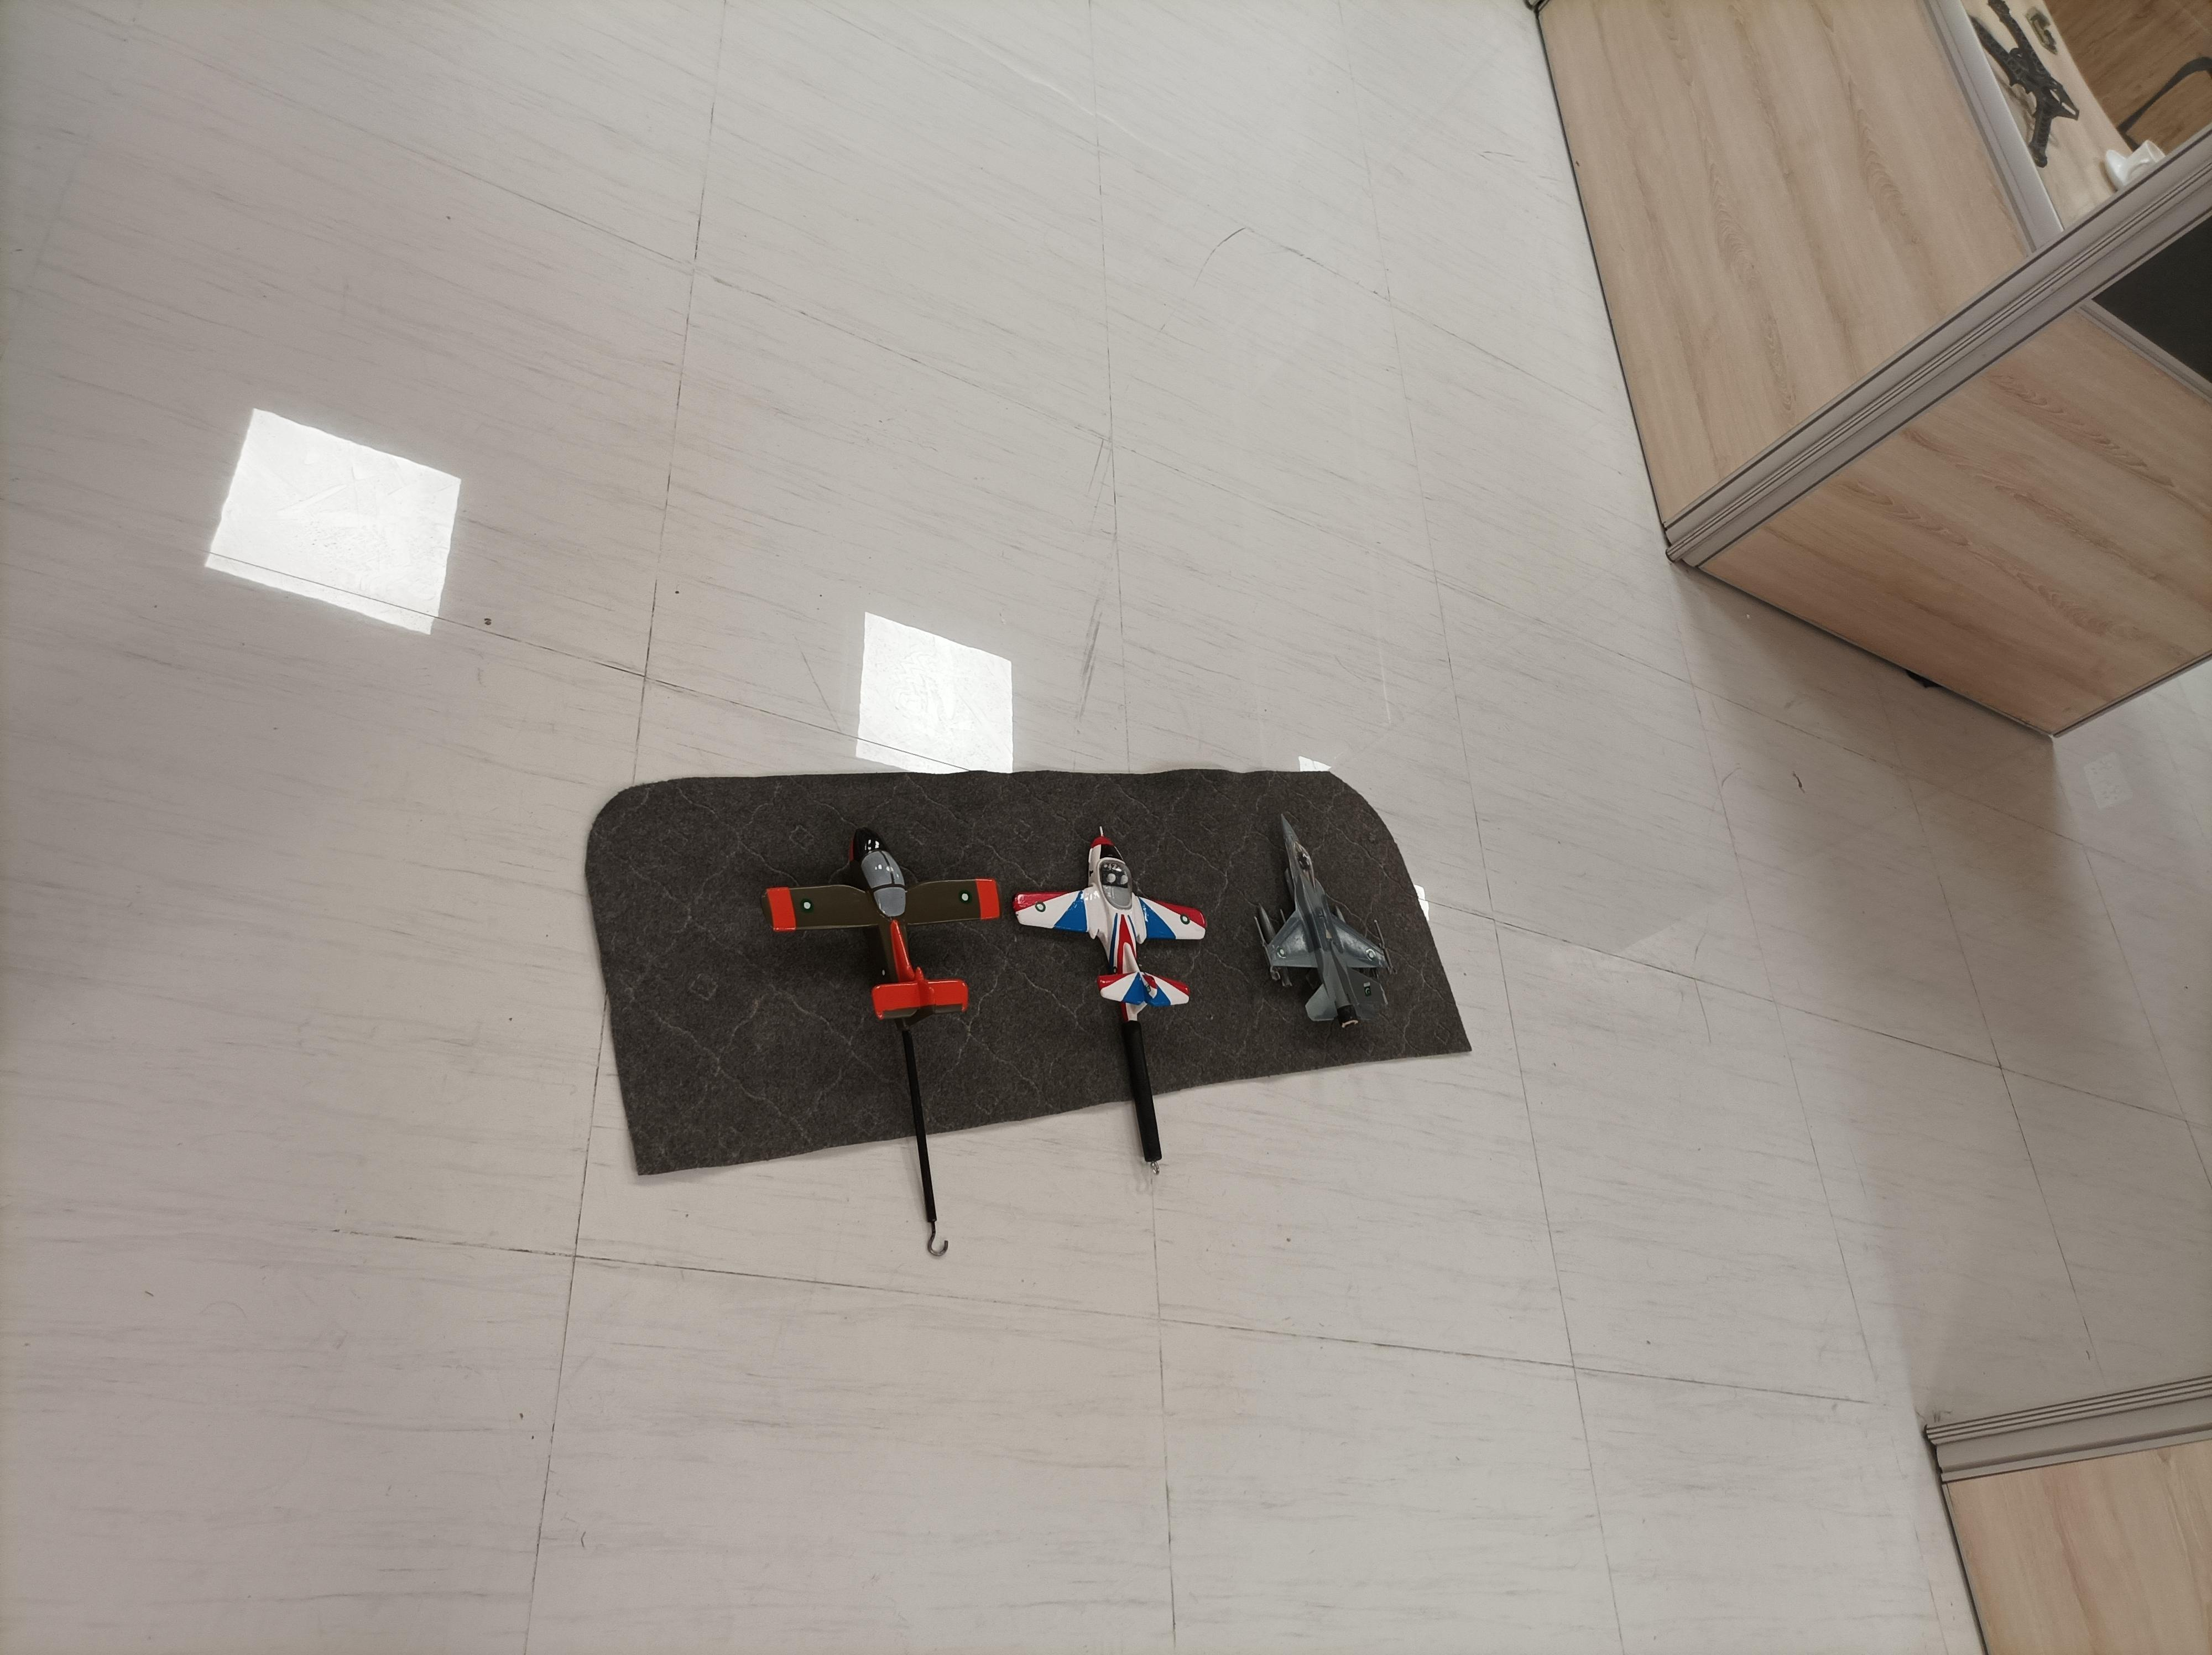Airplane: (745, 814, 1006, 1024), (1008, 817, 1222, 1034), (1239, 798, 1399, 1052)
